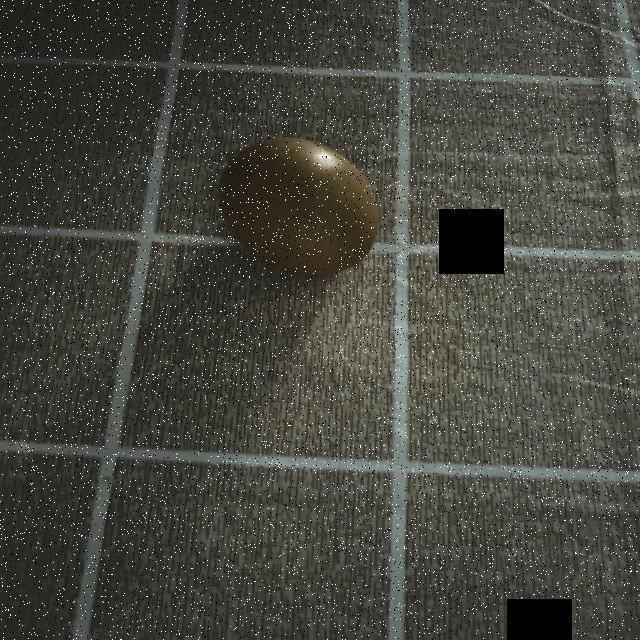egg: (204, 130, 392, 288)
